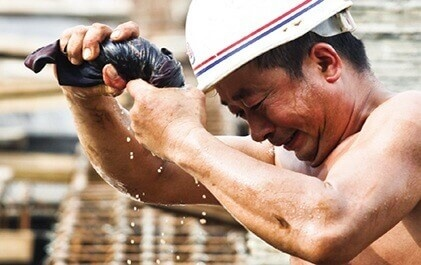white: (183, 1, 362, 167)
